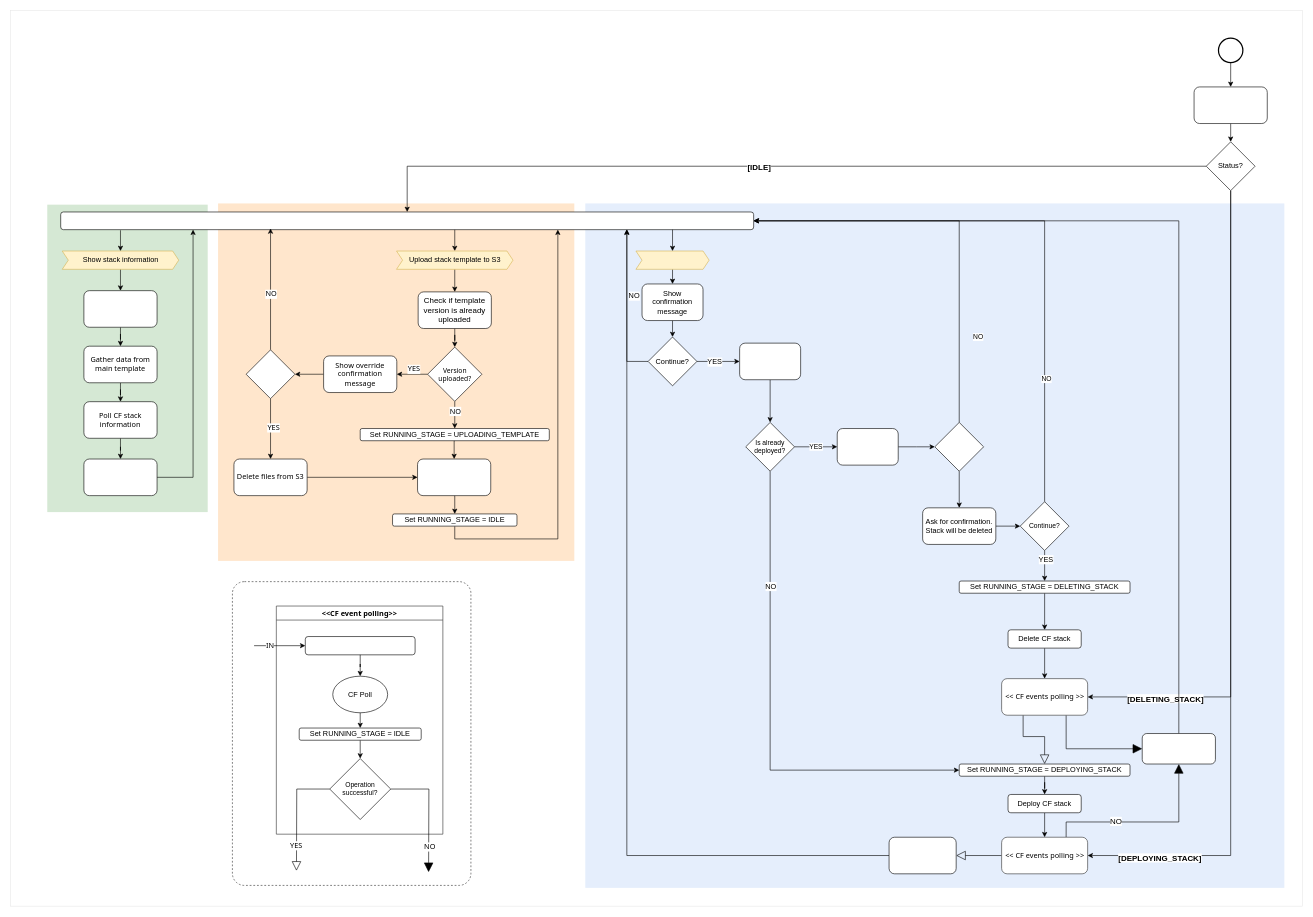
This 1313x917 diagram has some shape labels left out. Here are the shapes that lost their labels. From the top down, the centre of each, then its label:
point (1230, 105): Check RUNNING_STAGE status
point (407, 220): Menu
point (672, 259): Deploy Stack
point (120, 308): Gather local template_metadata
point (270, 374): Override?
point (770, 361): Check for stack status
point (867, 446): Ask for re-deployment confirmation
point (959, 446): Re-deploy?
point (120, 477): Display stack information
point (454, 477): Upload to S3
point (360, 645): Enter CF events polling
point (1178, 748): Set error message
point (922, 855): Poll CF for new stack information
